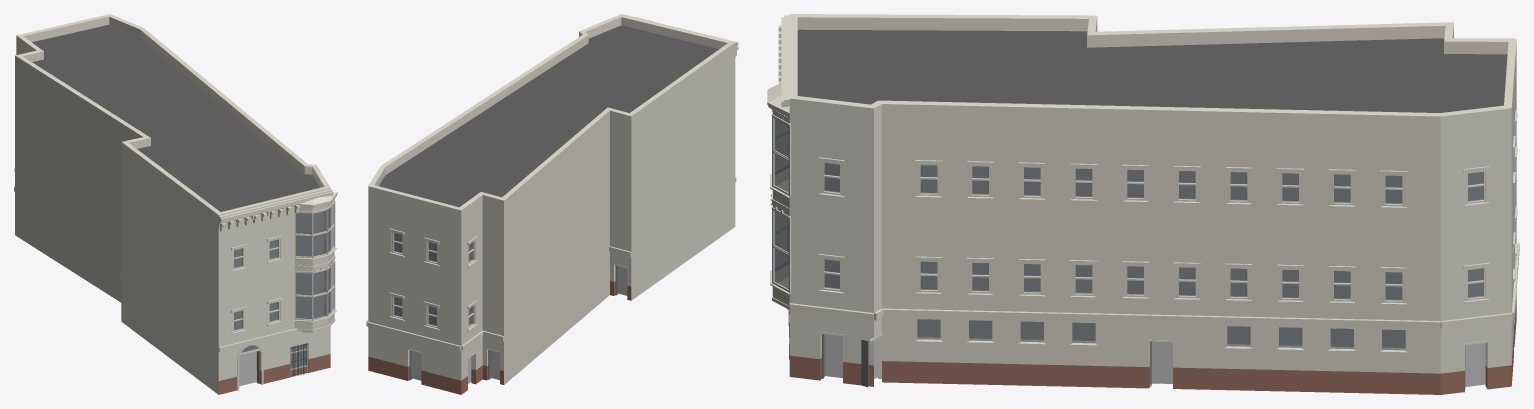
The model's file is exterior.glb.
3 views of the same model, side by side, from view 1: azimuth 30°, elevation 25°; view 2: azimuth 150°, elevation 25°; view 3: azimuth 270°, elevation 25° (orthographic). The views are drawn at different scales.
Visible parts, largest first — view 1: shell, roof, bay-glazing-hyb, shadow-proxy, trim, bay-windows-hyb, glazing, storefront, front-dressing-r4, frames, hyC-arches-8; view 2: shell, roof, trim, shadow-proxy, glazing, frames, storefront; view 3: shell, roof, shadow-proxy, glazing, trim, frames, bay-glazing-hyb, bay-windows-hyb, storefront.
Part boxes in pixels (x1,y1,x2,y2): shell: [15, 14, 330, 394]; roof: [32, 24, 320, 211]; bay-glazing-hyb: [294, 201, 336, 322]; shadow-proxy: [234, 211, 323, 386]; trim: [14, 168, 333, 352]; bay-windows-hyb: [294, 192, 337, 332]; glazing: [234, 239, 306, 370]; storefront: [240, 342, 308, 383]; front-dressing-r4: [219, 202, 332, 231]; frames: [233, 239, 279, 332]; hyC-arches-8: [237, 343, 263, 390]; shell: [368, 14, 735, 394]; roof: [379, 25, 719, 207]; trim: [366, 14, 738, 350]; shadow-proxy: [395, 233, 627, 383]; glazing: [393, 233, 472, 326]; frames: [392, 232, 474, 328]; storefront: [407, 264, 627, 380]; shell: [789, 14, 1516, 394]; roof: [797, 29, 1507, 112]; shadow-proxy: [824, 163, 1485, 386]; glazing: [824, 163, 1483, 350]; trim: [781, 15, 1519, 353]; frames: [822, 162, 1485, 302]; bay-glazing-hyb: [770, 109, 791, 294]; bay-windows-hyb: [767, 83, 789, 309]; storefront: [789, 311, 1488, 389].
Bounding box in the file's own units: 10.42 × 13.04 × 31.92.
